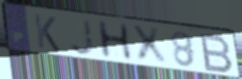8: (170, 31, 196, 69)
B: (199, 32, 235, 75)
H: (95, 19, 135, 62)
J: (69, 18, 97, 57)
K: (32, 13, 62, 54)
X: (129, 24, 169, 66)
